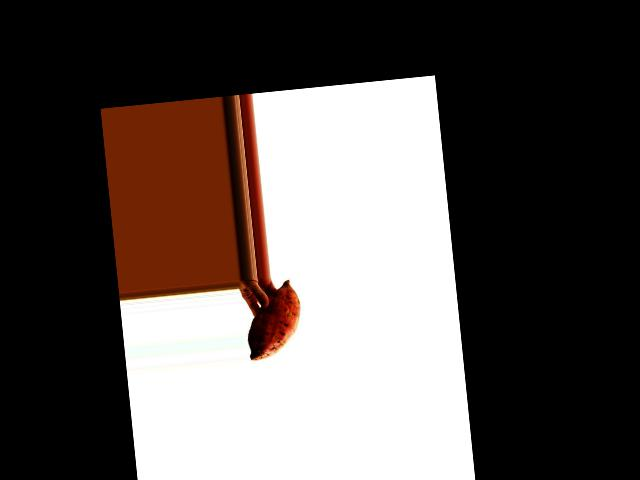sweet_potato: (240, 281, 310, 362)
